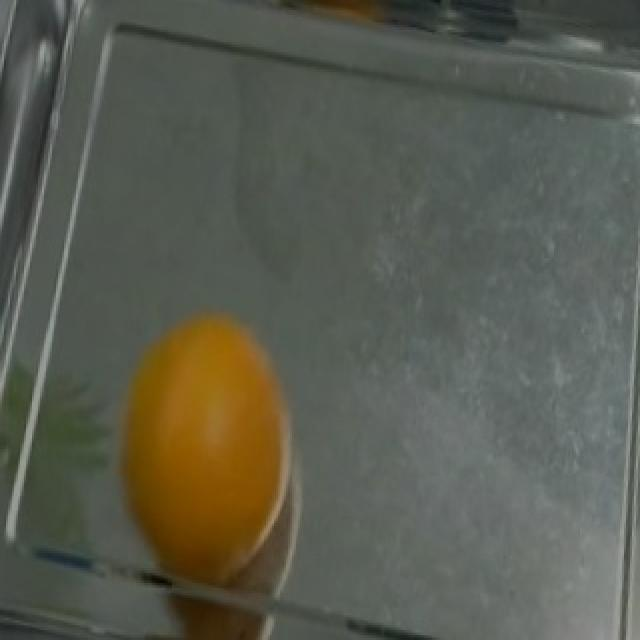Fruit: (96, 295, 310, 633)
